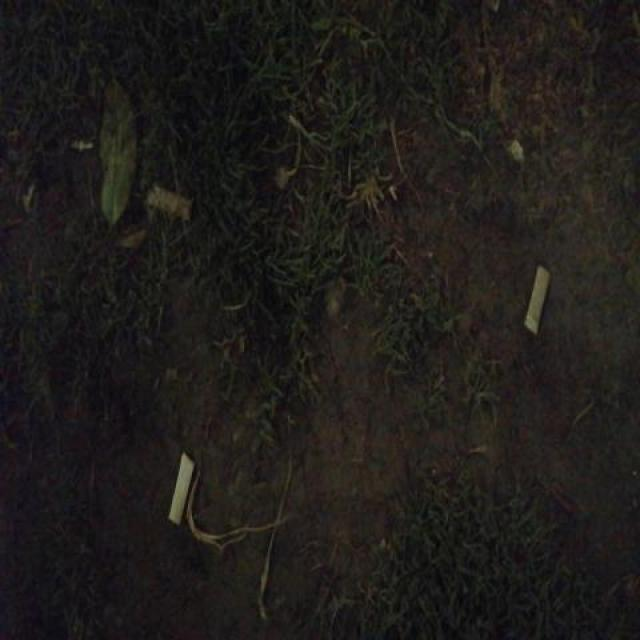non-organic waste: (162, 449, 198, 531), (521, 263, 555, 340), (139, 178, 197, 223)
